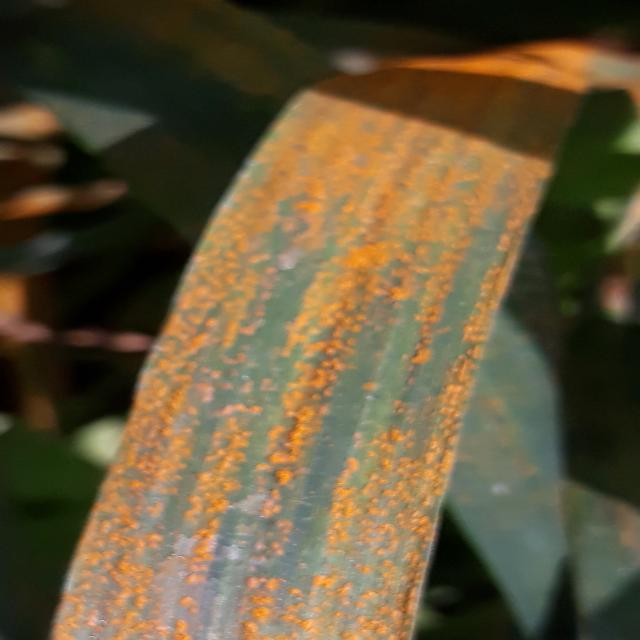yellow_rust: (39, 9, 620, 640)
